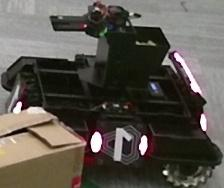armor_1: (91, 131, 148, 156)
light: (174, 52, 204, 97)
